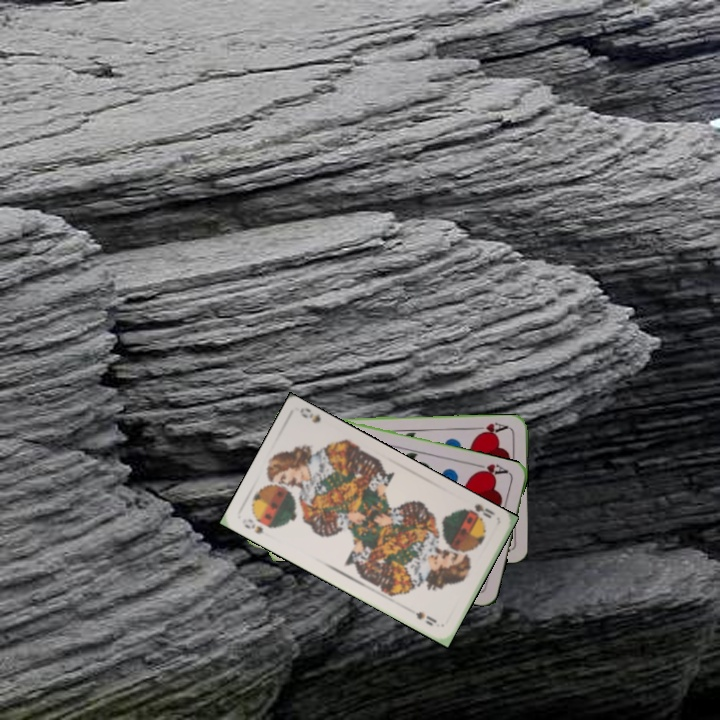HA: (472, 460, 512, 480), (471, 418, 512, 437)
SO: (459, 500, 498, 523), (240, 514, 267, 536)
